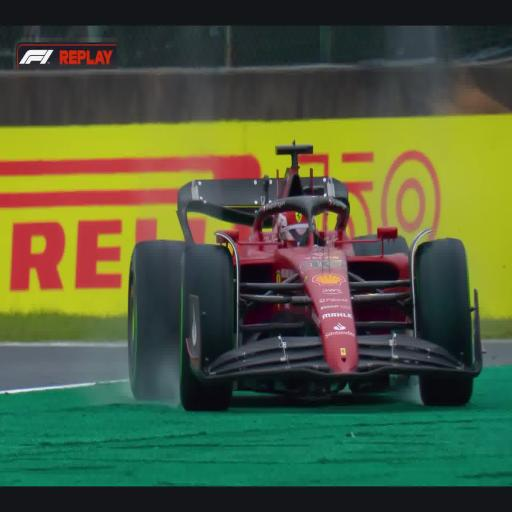f1_car: (128, 141, 482, 410)
